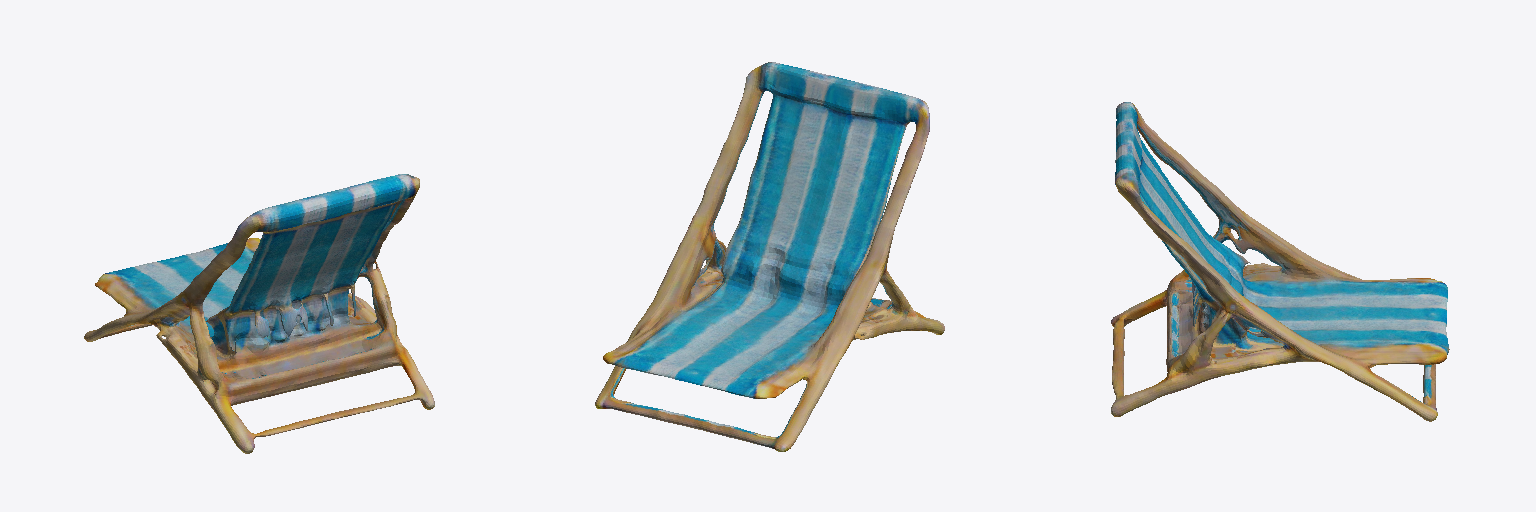
3 renders of one model, left to right at view 1: azimuth 30°, elevation 25°; view 2: azimuth 150°, elevation 25°; view 3: azimuth 270°, elevation 25°, orthographic.
Visible parts, largest first — view 1: mesh; view 2: mesh; view 3: mesh.
Part boxes in pixels (x1,y1,x2,y2): mesh: (84,174,434,453); mesh: (595,62,944,451); mesh: (1111,102,1449,421).
Bounding box in the file's own units: 0.6723 × 0.7776 × 0.9973.
Materials: 1 (1 with a texture image).